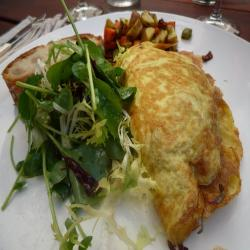omelette: (115, 44, 247, 243)
salad: (27, 59, 134, 202)
